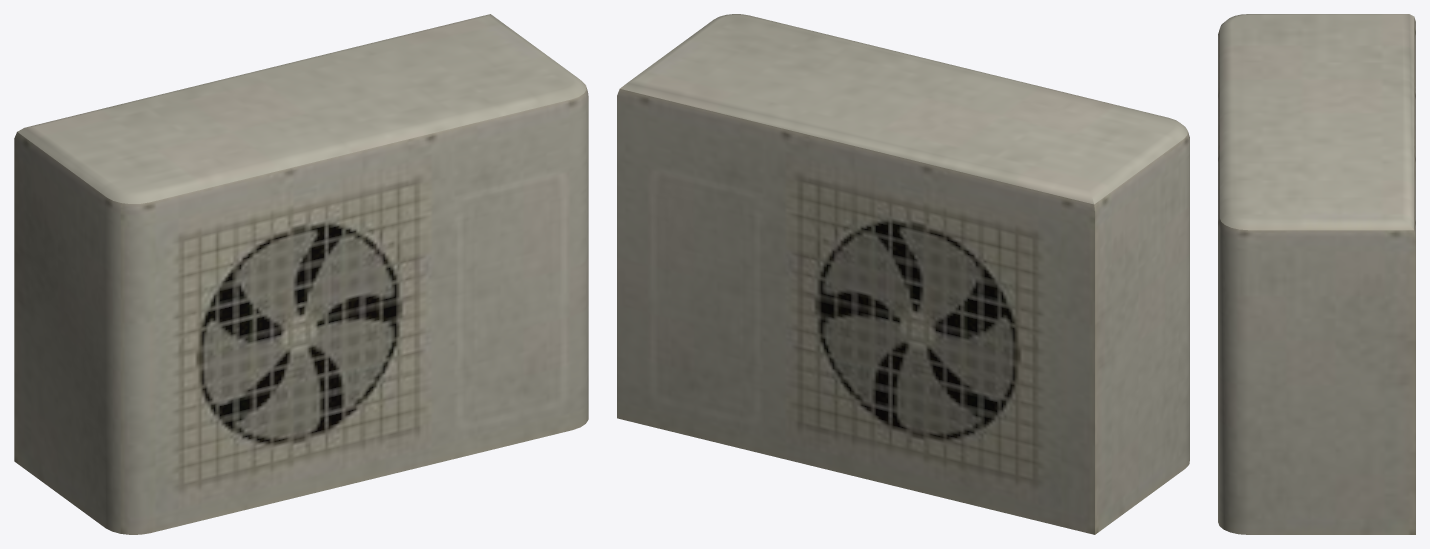
The model's file is Prop_ACUnit.glb.
3 views of the same model, side by side, from view 1: azimuth 30°, elevation 25°; view 2: azimuth 150°, elevation 25°; view 3: azimuth 270°, elevation 25° (orthographic). The views are drawn at different scales.
Parts seen in each view (by area): view 1: Prop_ACUnit; view 2: Prop_ACUnit; view 3: Prop_ACUnit.
Boxes of the visible parts, bbox=[...] form: Prop_ACUnit: bbox=[14, 14, 588, 534]; Prop_ACUnit: bbox=[617, 14, 1189, 534]; Prop_ACUnit: bbox=[1218, 14, 1415, 534].
Size of the model in its own units: 0.8932 by 0.6 by 0.3471.
1 material, 1 textured.
